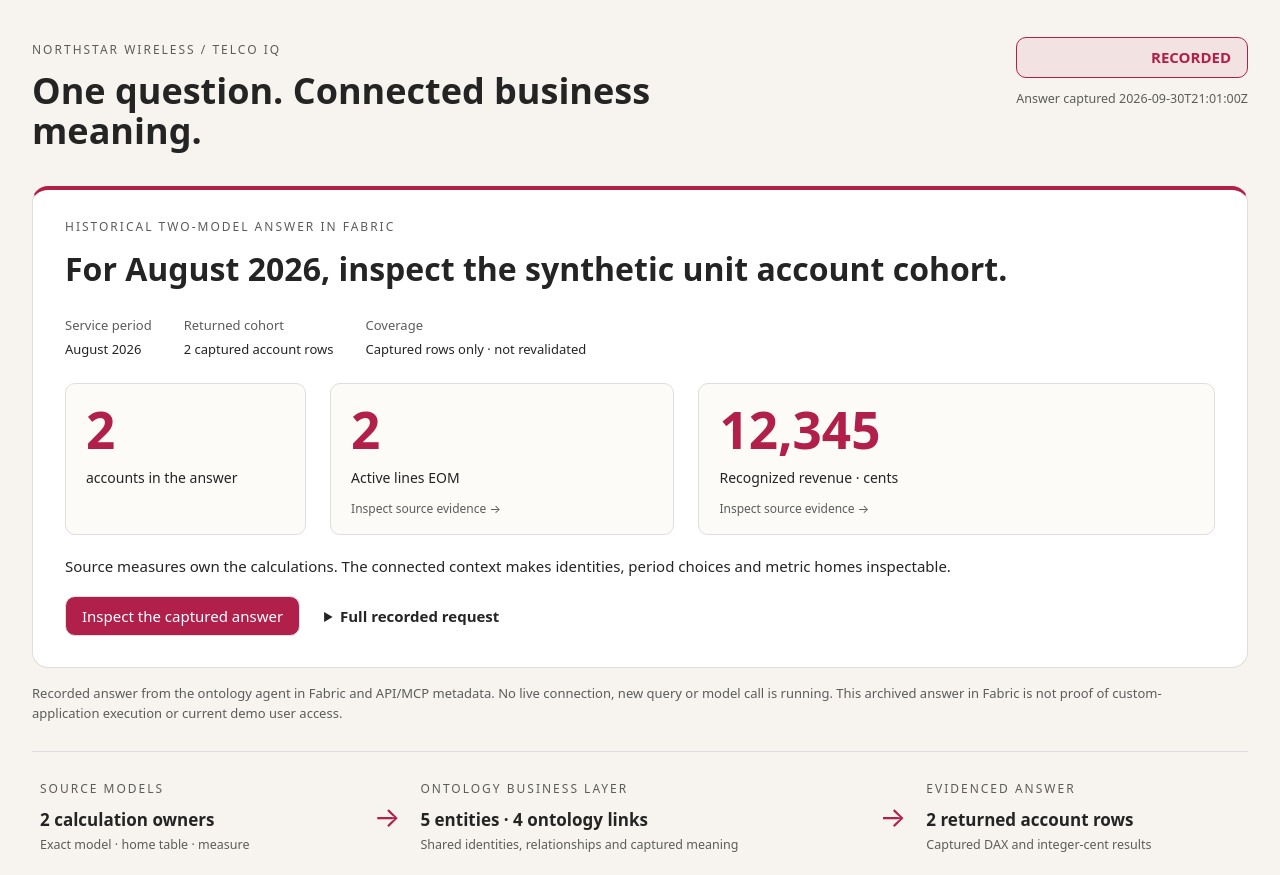
Scenario: recorded ontology customer experience DOM › links metric binding to its own model/home, actual query and returned account value
Click the button "12,345 Recognized revenue · cents Inspect source evidence →" at (800,429), box [698, 383, 1215, 535]
(page scrolled)
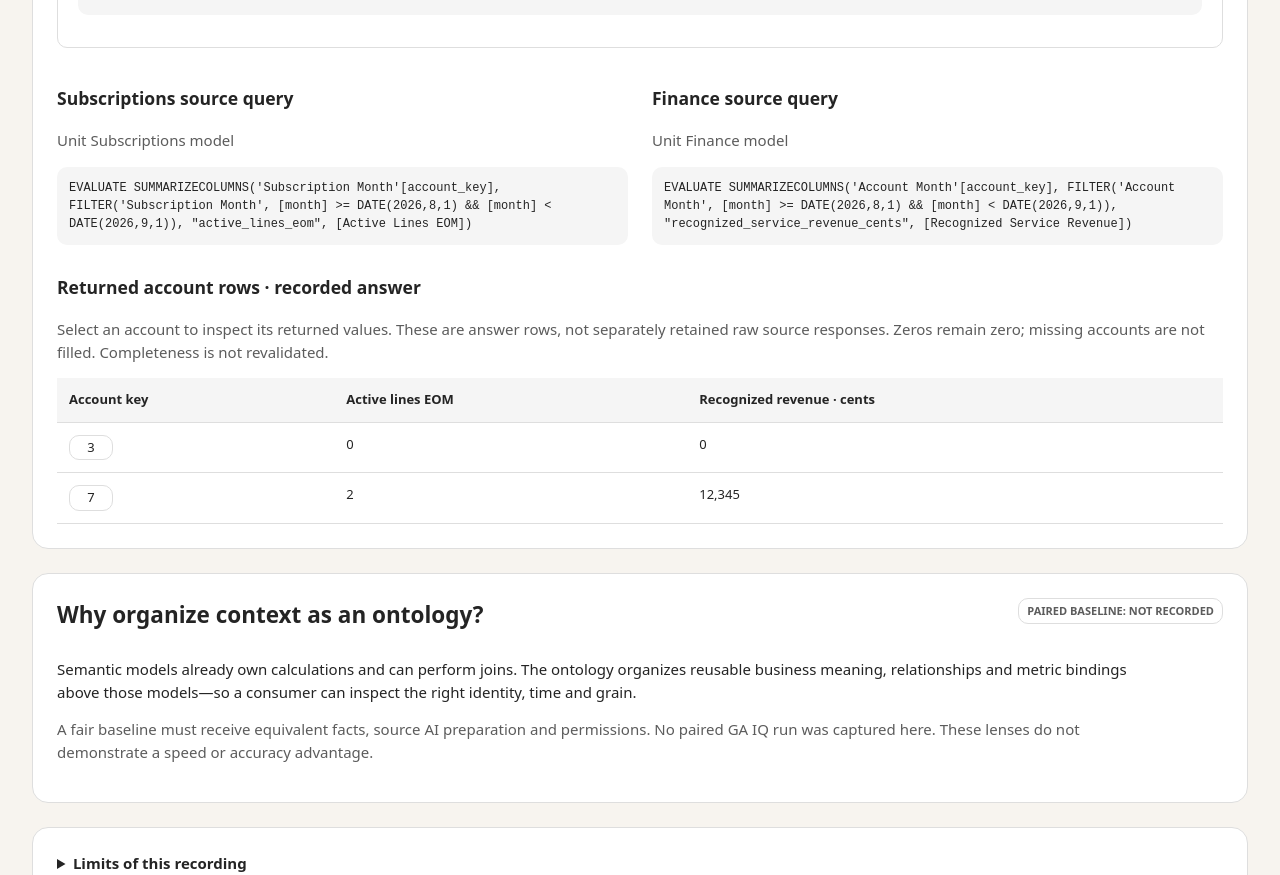
Expected: the element with class "binding-evidence" does not show "Unit Subscriptions model"
Click the button "3" at (91,447), box [69, 434, 113, 460]
(page scrolled)
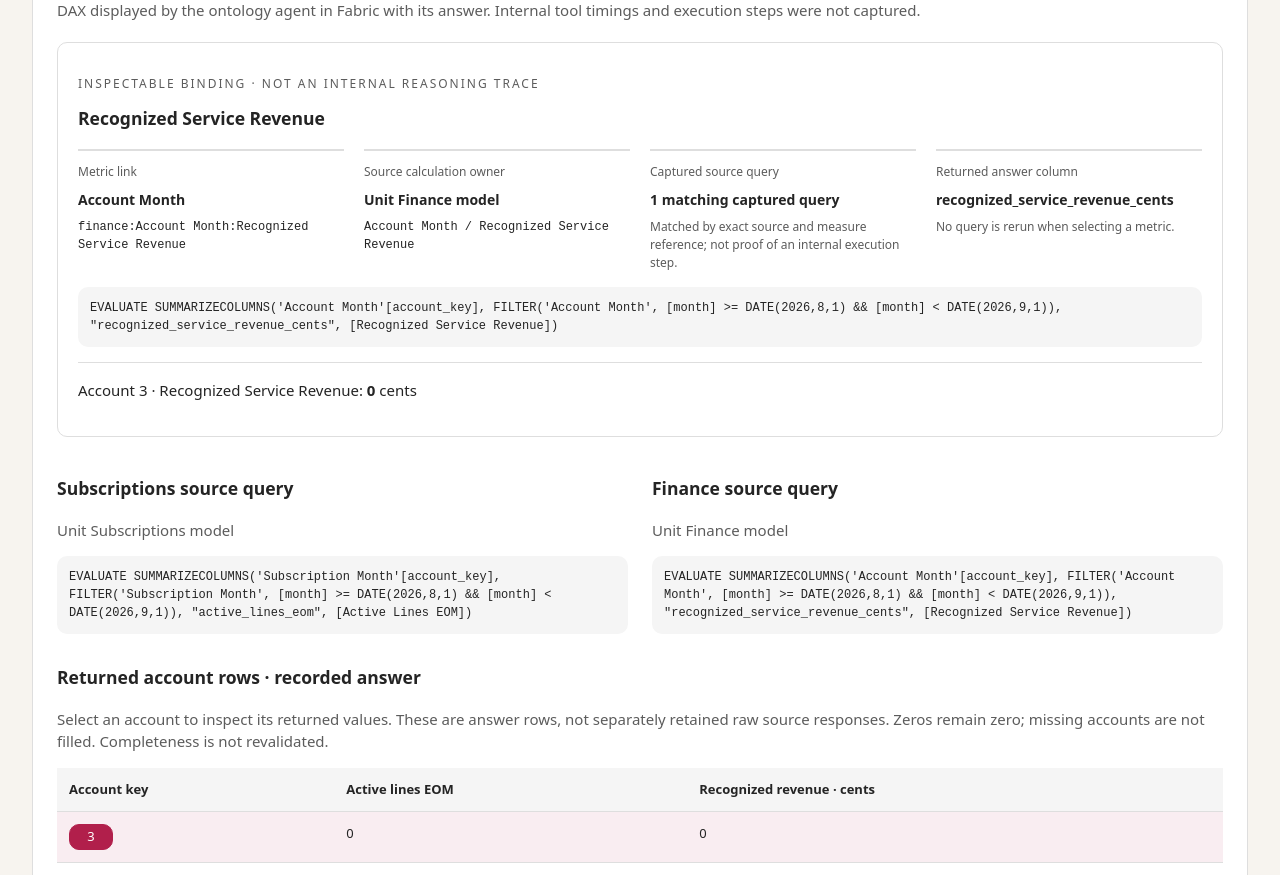
Now the element with class "selected-account-evidence" shows "0 cents", box [78, 362, 1202, 401]
